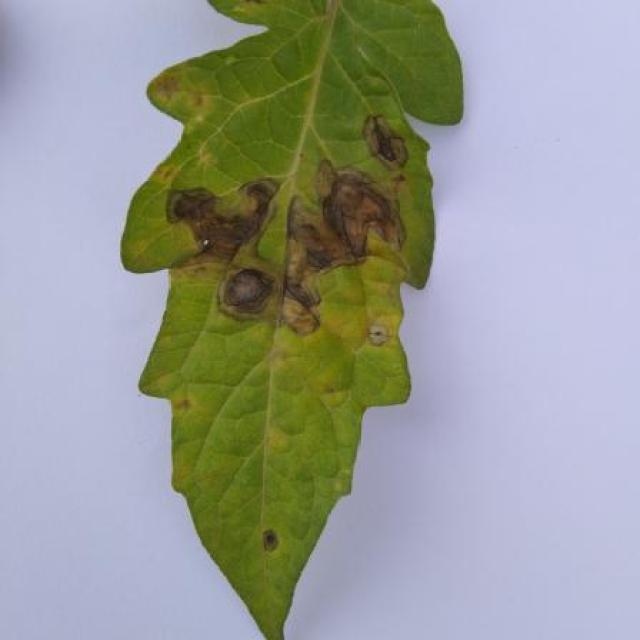Early Blight: (117, 0, 466, 640)
